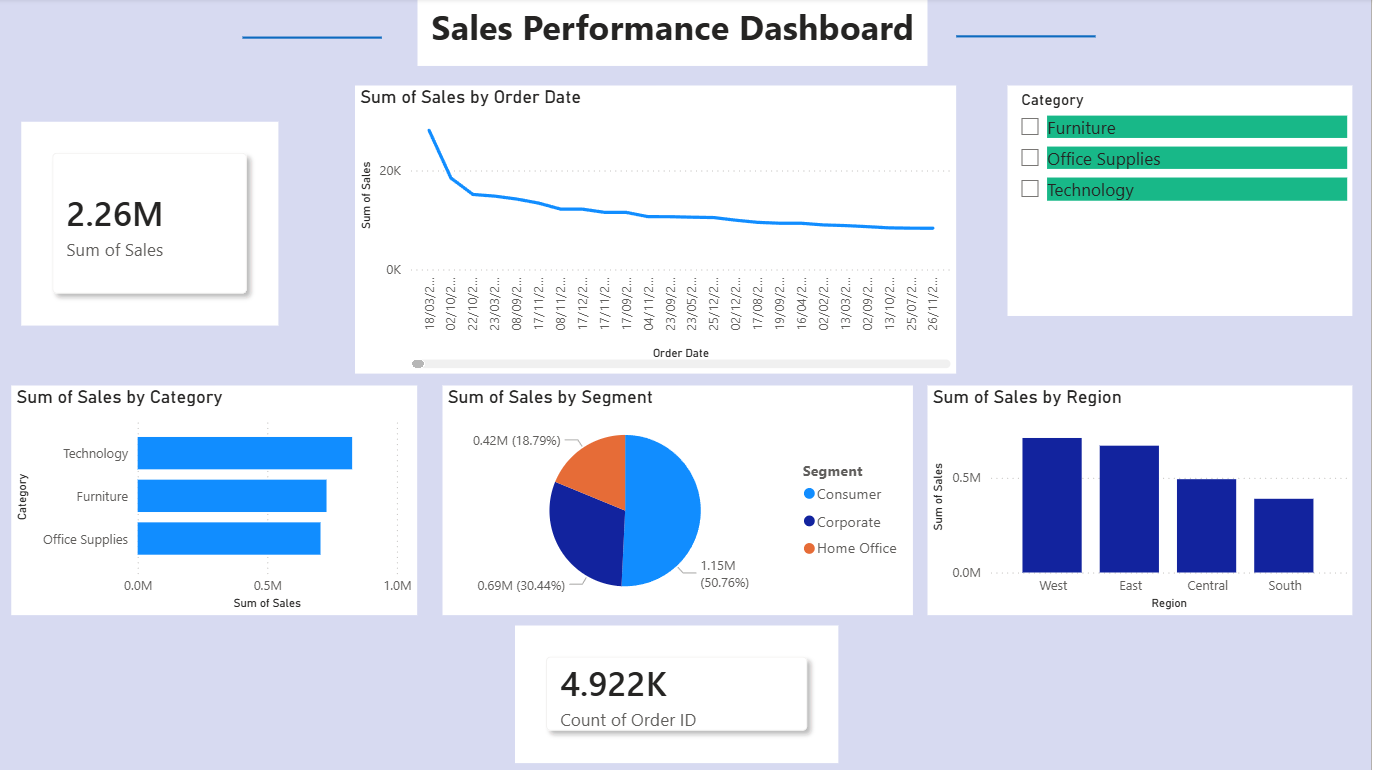

The dashboard page shown, as its layout file describes it:
{"tool":"powerbi","page":{"name":"Page 1","canvas":[1280,720],"ordinal":0},"visuals":[{"type":"cardVisual","fields":{"Data":["Sum(train.Sales)"]},"box":[24.4,115.1,239.5,189.5],"z":1000},{"type":"clusteredColumnChart","fields":{"Y":["Sum(train.Sales)"],"Category":["train.Region"]},"box":[867.4,360.5,395.3,214],"z":2000},{"type":"clusteredBarChart","fields":{"Y":["Sum(train.Sales)"],"Category":["train.Category"]},"box":[15.1,360.5,377.9,214],"z":3000},{"type":"pieChart","fields":{"Category":["train.Segment"],"Y":["Sum(train.Sales)"]},"box":[416.3,360.5,437.2,214],"z":4000},{"type":"slicer","fields":{"Values":["train.Category"]},"box":[941.3,81,321.1,214.1],"z":5000},{"type":"textbox","box":[392.5,0,474.8,63.1],"z":6000},{"type":"lineChart","fields":{"Category":["train.Order Date"],"Y":["Sum(train.Sales)"]},"box":[334.6,81.1,559.1,268.1],"z":7000},{"type":"cardVisual","fields":{"Data":["Count(train.Order ID)"]},"box":[483.7,583.7,301.2,127.9],"z":8000},{"type":"shape","box":[229.7,9.4,129.9,55.1],"z":8001},{"type":"shape","box":[893.8,8.3,129.9,55.1],"z":8002}]}

Visuals, with their boxes in screenshot pixels (x1, y1, x2, y2), scaled from the page's 1280x720 canvas onto the 1373x770 screenshot:
cardVisual - Sum(train.Sales): [left=26, top=123, right=283, bottom=326]
clusteredColumnChart - Sum(train.Sales) x train.Region: [left=930, top=386, right=1354, bottom=614]
clusteredBarChart - Sum(train.Sales) x train.Category: [left=16, top=386, right=422, bottom=614]
pieChart - train.Segment x Sum(train.Sales): [left=447, top=386, right=916, bottom=614]
slicer - train.Category: [left=1010, top=87, right=1354, bottom=316]
textbox: [left=421, top=0, right=930, bottom=67]
lineChart - train.Order Date x Sum(train.Sales): [left=359, top=87, right=959, bottom=373]
cardVisual - Count(train.Order ID): [left=519, top=624, right=842, bottom=761]
shape: [left=246, top=10, right=386, bottom=69]
shape: [left=959, top=9, right=1098, bottom=68]
